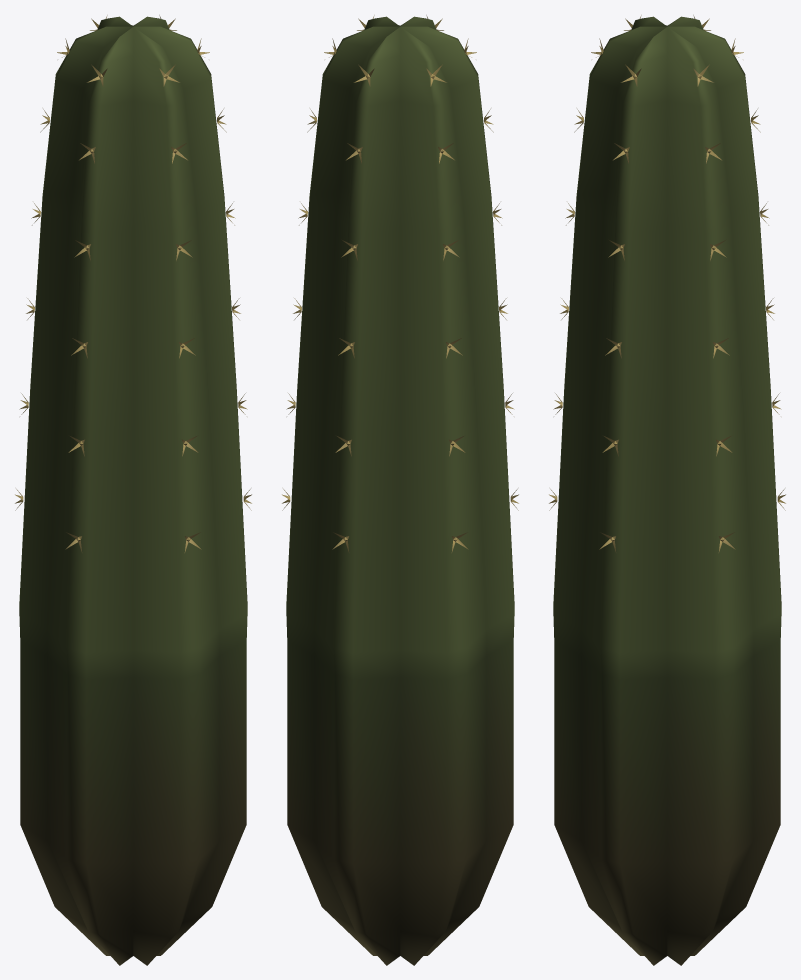
Rendered from plants-cacti-succulents-column-cactus_v1.fbx.
3 views of the same model, side by side, from view 1: azimuth 30°, elevation 25°; view 2: azimuth 150°, elevation 25°; view 3: azimuth 270°, elevation 25° (orthographic).
Parts seen in each view (by area): view 1: Column Cactus_v1; view 2: Column Cactus_v1; view 3: Column Cactus_v1.
Part boxes in pixels (x1,y1,x2,y2): Column Cactus_v1: (15, 15, 251, 965); Column Cactus_v1: (282, 15, 518, 965); Column Cactus_v1: (549, 15, 785, 965).
Bounding box in the file's own units: 0.3169 × 1.5 × 0.3493.
